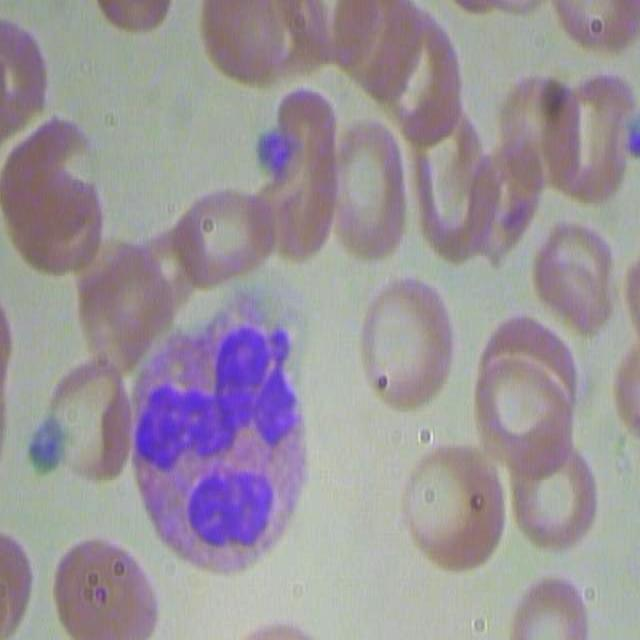RBC: (470, 312, 586, 466), (3, 118, 108, 284), (394, 433, 504, 572), (358, 2, 467, 142), (81, 222, 182, 365), (319, 106, 413, 258), (400, 111, 491, 267), (355, 273, 458, 410), (530, 68, 628, 205), (162, 177, 274, 296), (48, 354, 138, 489), (50, 530, 158, 637), (502, 439, 602, 553), (198, 0, 324, 86), (533, 220, 620, 341), (1, 9, 54, 170), (505, 565, 594, 640), (550, 0, 640, 58), (0, 521, 33, 638), (86, 0, 182, 32)
WBC: (120, 293, 306, 586)
platelets: (253, 122, 300, 194), (24, 415, 68, 481)
